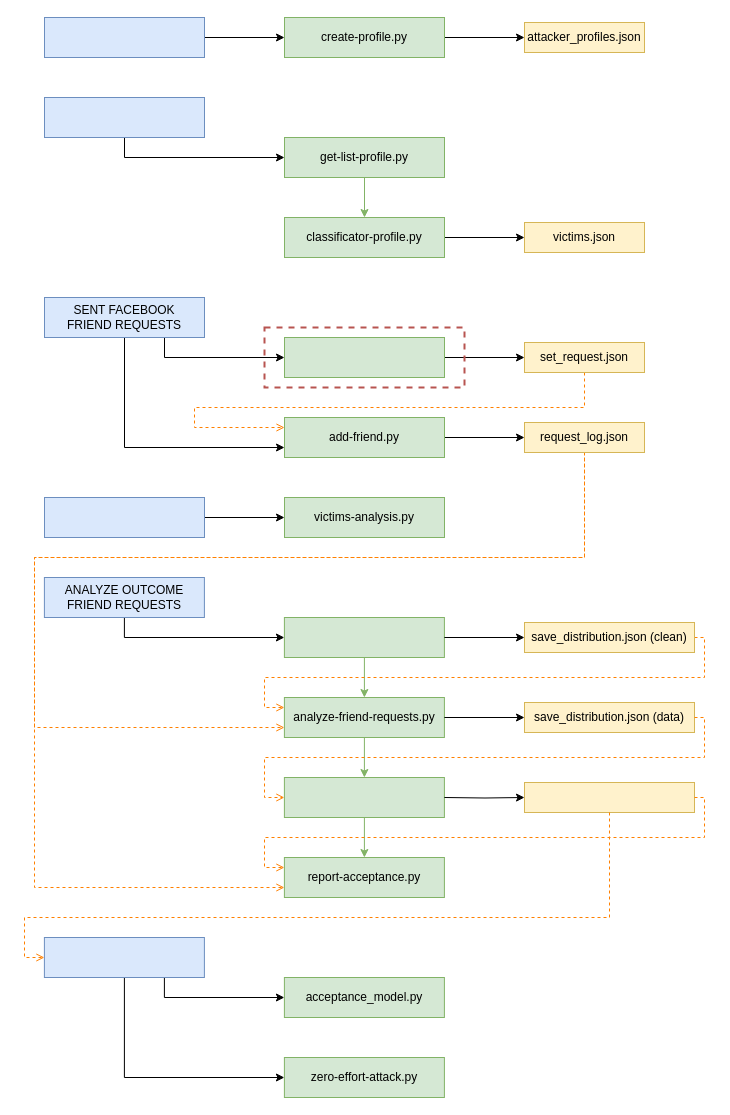
The diagram is 730 pixels wide and 1115 high, and some of its shapes have lost their labels. Here are the shapes that lost their labels. From the top down, the centre of each, then its label:
the point at 124,37: CREATE ATTACKER PROFILES
the point at 124,117: SEARCH VICTIM PROFILES
the point at 364,357: round-add.py
the point at 124,517: ANALYZE VICTIMS
the point at 363,637: cleaning-save-distribution.py
the point at 363,797: get-distribution.py
the point at 609,797: distribution_update.json
the point at 123,957: ZERO-EFFORT ATTACK
